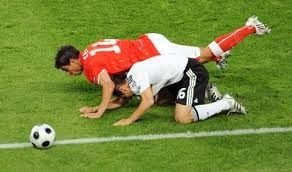falling: (65, 20, 255, 115)
